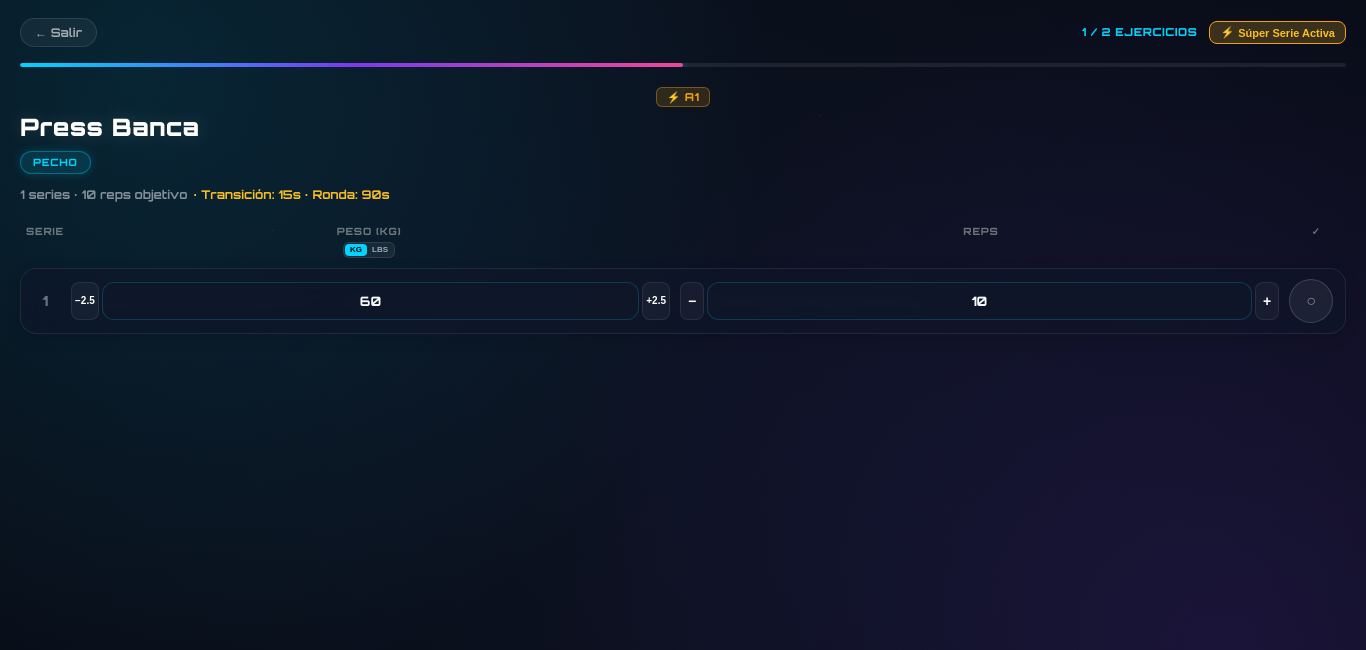
Test: ActiveSession Component › muestra el feedback (RIR/Estímulo/Recuperación) de un ejercicio de Súper Serie aunque el puntero ya haya avanzado al compañero
Click the button named "Marcar serie 1 como completada": (1311, 301) [1289,279,1333,323]
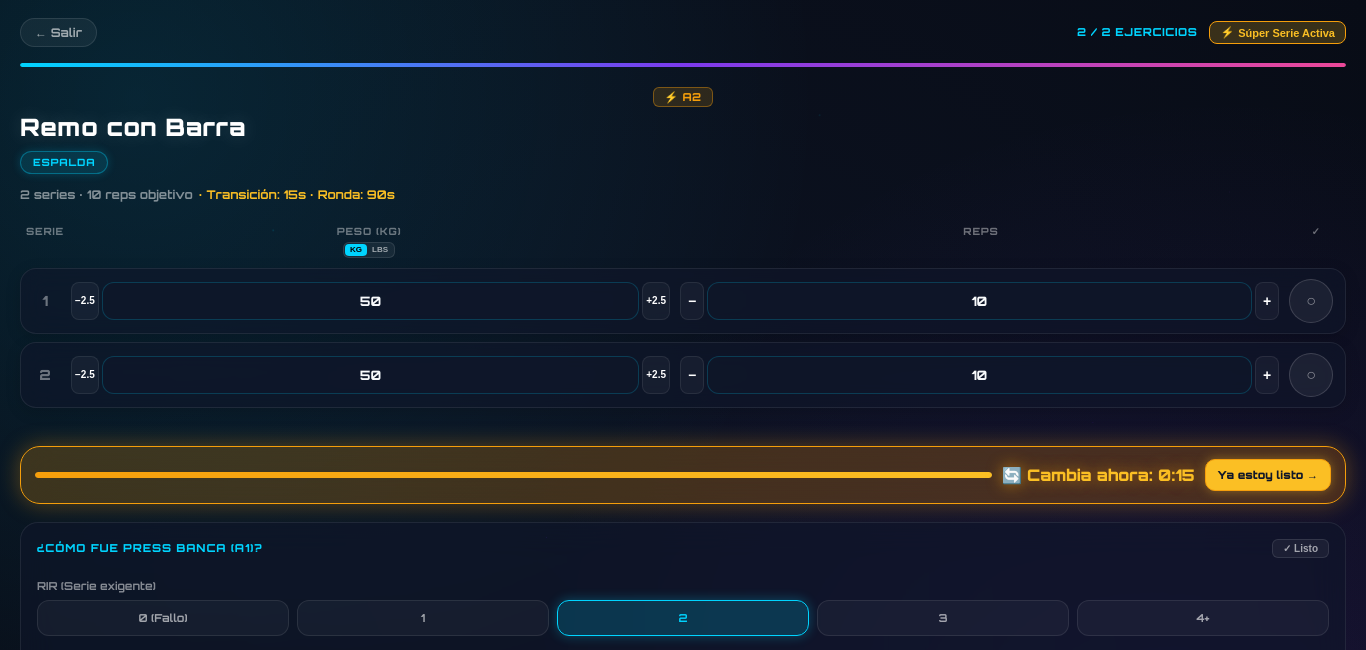
Expected: the heading "Remo con Barra" is shown, [20,112,246,142]
Expected: the text "¿Cómo fue Press Banca (A1)?" is shown, [37,540,262,556]
Expected: the button "0 (Fallo)" is shown, [37,600,289,636]
Click the button "4+": (1203, 618) [1077,600,1329,636]
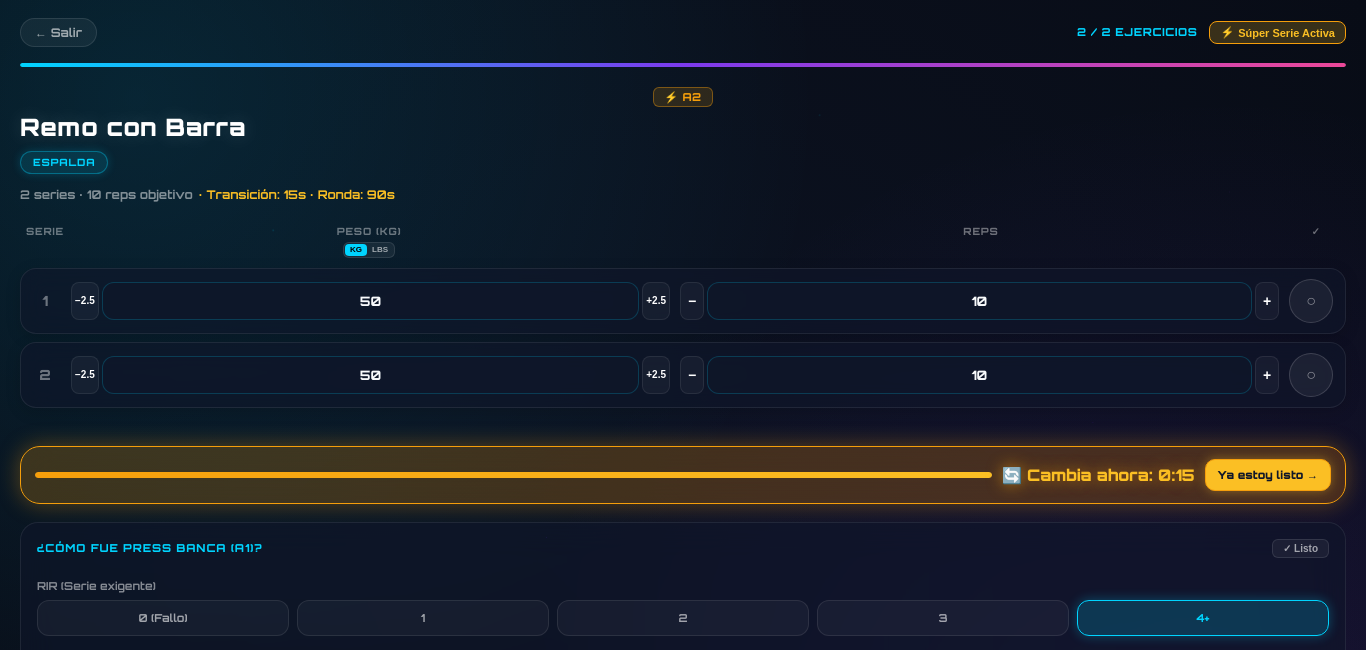
Note: Descartar el panel una vez reportado — debe desaparecer
Click the button "✓ Listo": (1300, 548) [1272,539,1329,558]
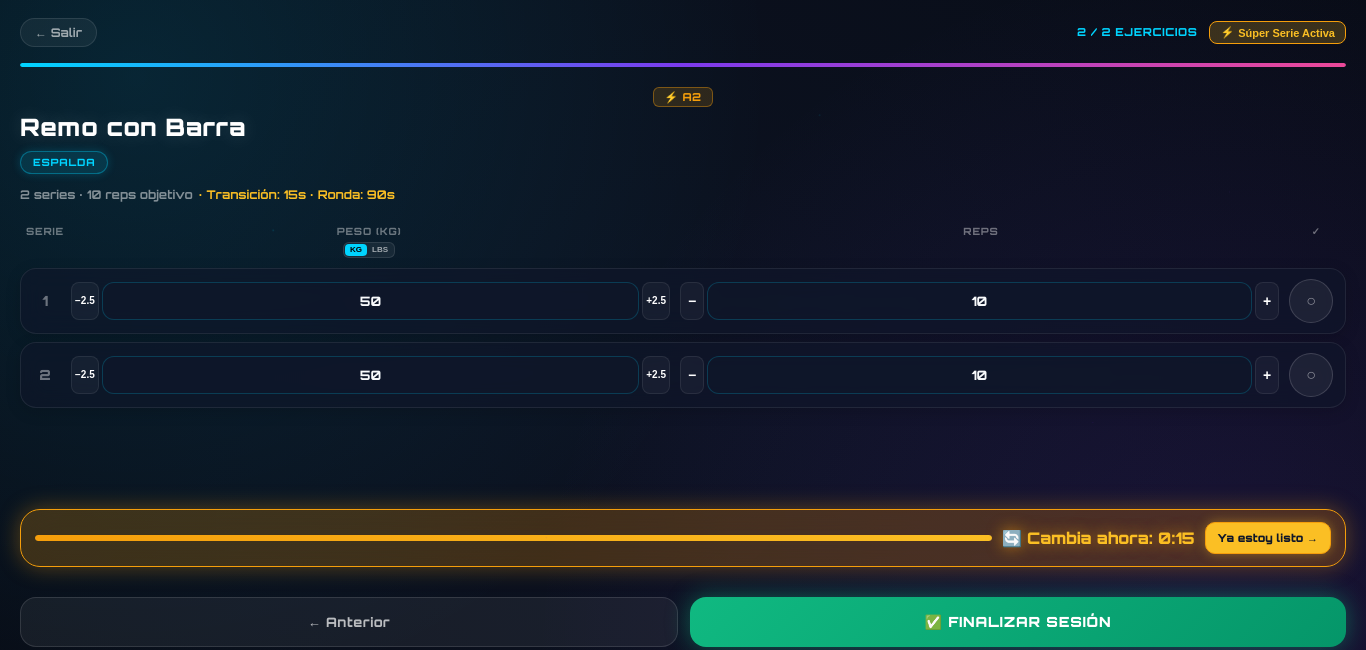
Expected: the text "Cómo fue Press Banca" is gone
